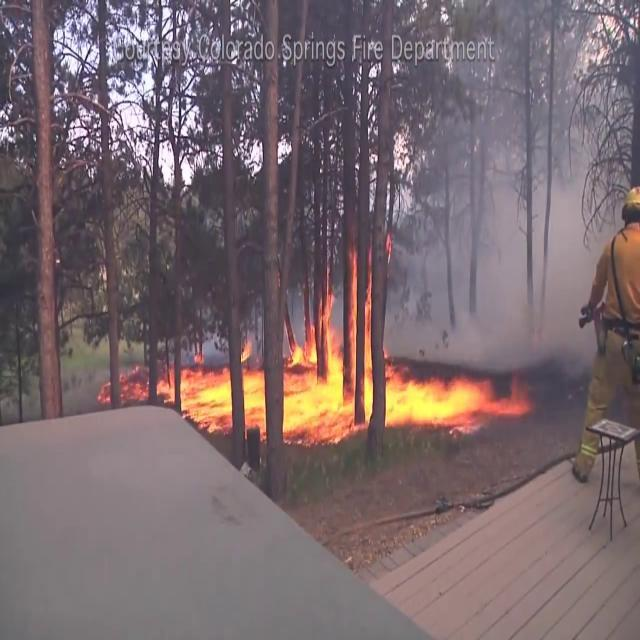Fire: (283, 253, 392, 438), (382, 356, 532, 432), (158, 350, 269, 428)
Smoke: (392, 110, 602, 367)
